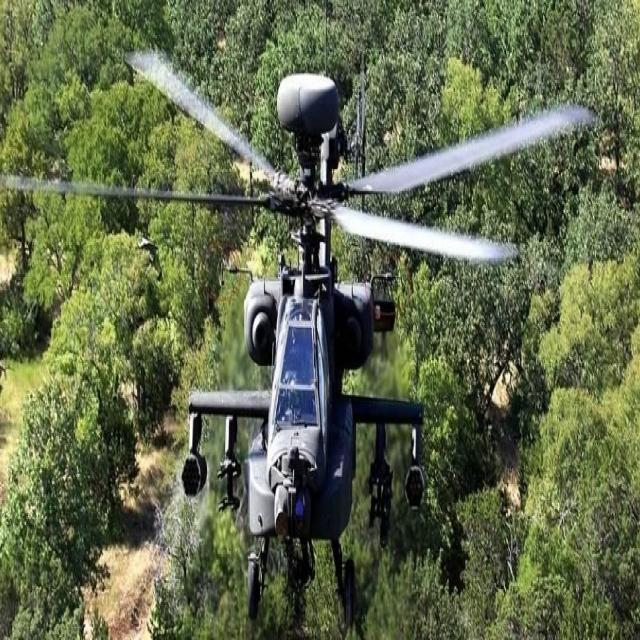MIL_HELO: (11, 53, 631, 620)
